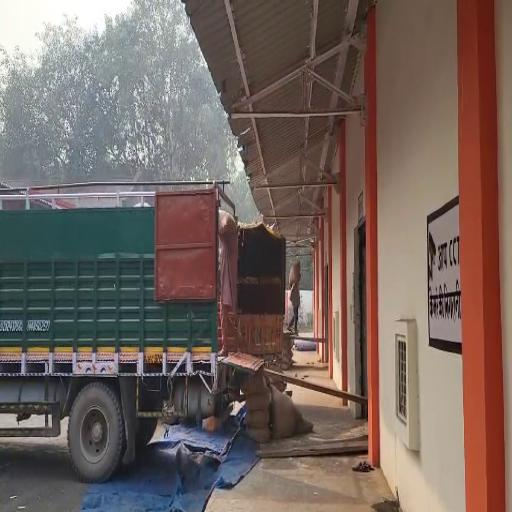bag: (216, 206, 243, 264)
